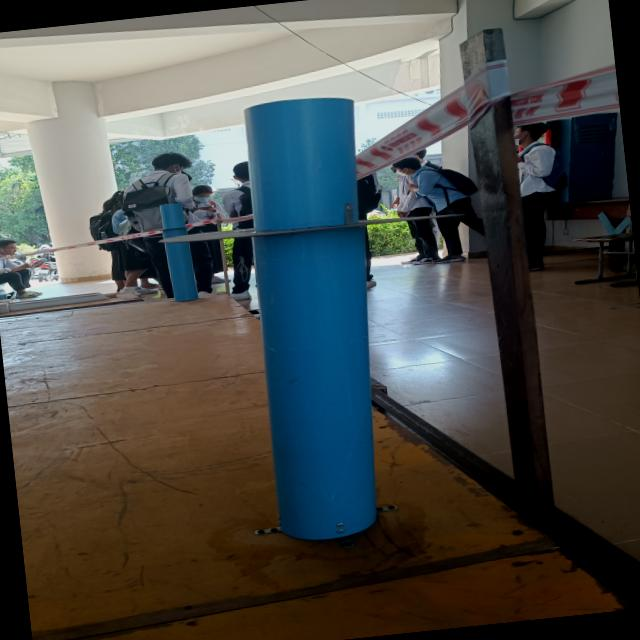pole: (143, 79, 480, 378)
